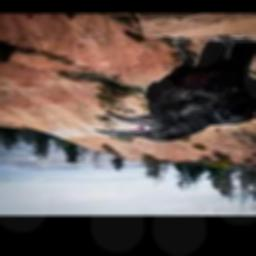Crow: (95, 42, 256, 142)
